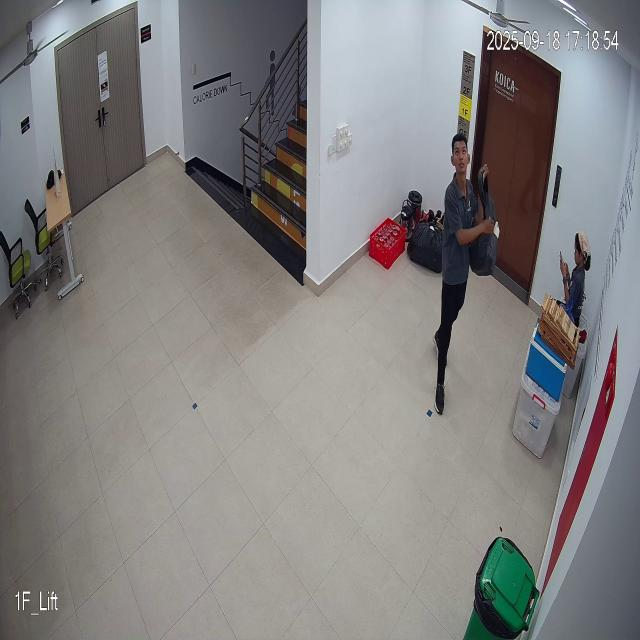face: (450, 129, 471, 180)
